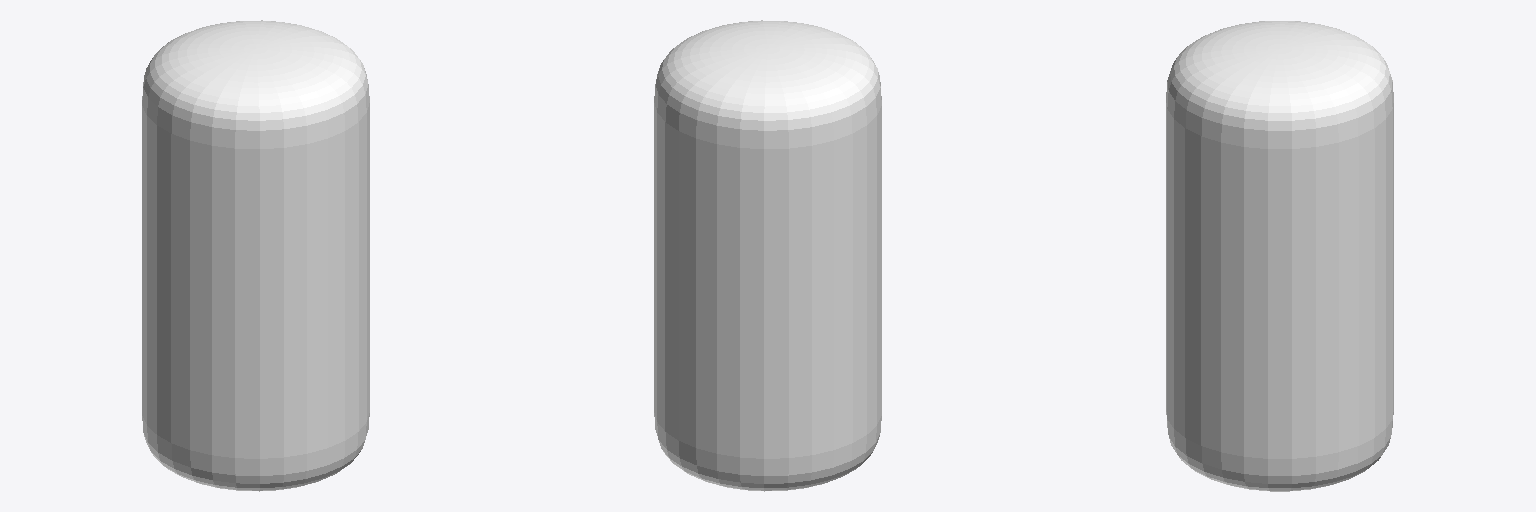
URDF robot description (obs):
<?xml version="1.0" ?>
<robot name="obs">
  <link name="obs_Link">
    <inertial>
      <origin rpy="0 0 0" xyz="0 0 0"/>
       <mass value=".0"/>
       <inertia ixx="0" ixy="0" ixz="0" iyy="0" iyz="0" izz="0"/>
    </inertial>
    <visual>
      <origin rpy="0 0 0" xyz="0 0 0"/>
      <geometry>
	      <mesh filename="obs003.stl" scale="1 1 1"/>
      </geometry>
      <material name="white">
        <color rgba="1 1 1 1"/>
      </material>
    </visual>
  </link>
</robot>

--- What the picture shows (computed from the rendered views, not written in the file) ---
3 views of the same robot in one strip: view 1: azimuth 30°, elevation 25°; view 2: azimuth 150°, elevation 25°; view 3: azimuth 270°, elevation 25° (orthographic).
Model obs with 1 links and 0 joints (none), rooted at obs_Link, posed every joint at zero.
Links seen in each view (by area): view 1: obs_Link; view 2: obs_Link; view 3: obs_Link.
Boxes of the visible links, x1,y1,x2,y2 form: obs_Link: (142,20,369,491); obs_Link: (654,20,881,491); obs_Link: (1166,21,1393,491).
Size in the robot's own frame: 1.99 by 1.99 by 4 metres.
1 mesh visuals loaded from 1 distinct referenced files (1 binary STL).
